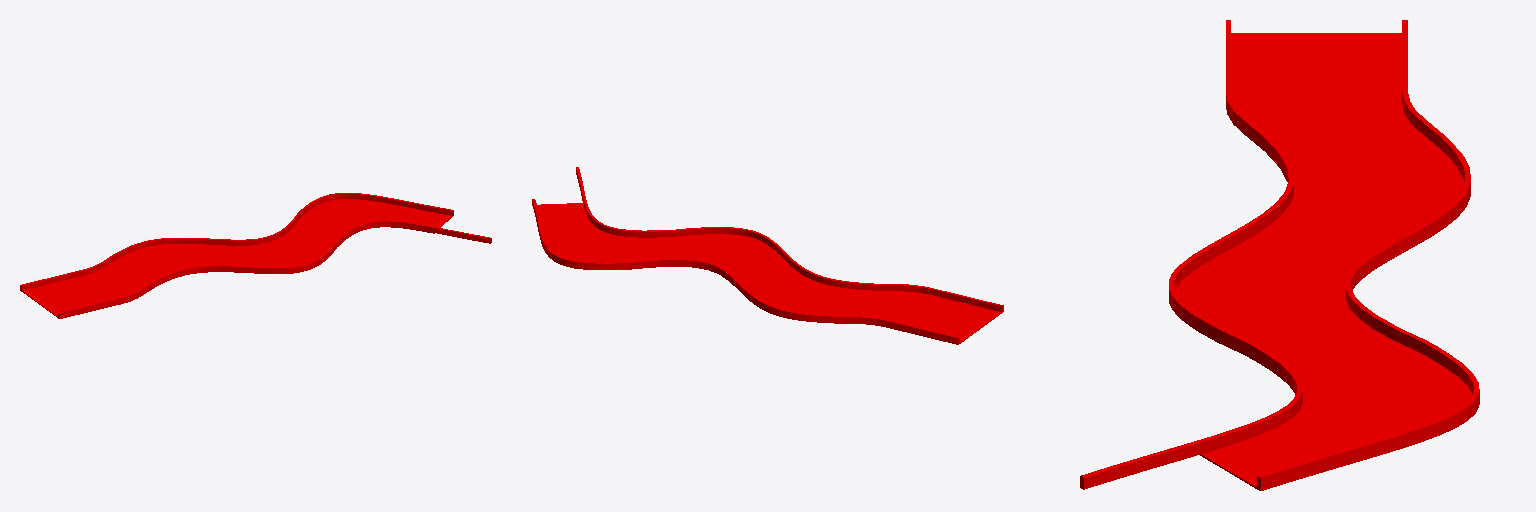
URDF robot description (chicane_robot):
<?xml version="1.0" ?>
<robot name="chicane_robot">
  
  <link name="world">
  </link>
  
  <link name="chicane">
    <contact>
      <lateral_friction value="1.0"/>
      <rolling_friction value="0.0"/>
      <contact_cfm value="0.0"/>
      <contact_erp value="1.0"/>
    </contact>
    <visual>
			<origin xyz="0 0 0" rpy="0 0 0" />
			<geometry>
				<mesh filename="Chicane_meters.obj" scale="1 1 1" />
			</geometry>
			<material name="texture">
				<color rgba="1 0 0 1" />
			</material>
		</visual>
		<collision>
			<geometry>
				<mesh filename="Chicane_meters.obj" scale="1.0 1.0 1.0" />
			</geometry>
		<origin xyz="0 0 0" rpy="0 0 0" /></collision>
		<inertial>
			<mass value="10.0" />
			<inertia ixx="1.0" ixy="0.0" ixz="0.0" iyy="1.0" iyz="0.0" izz="1.0" />
		</inertial>
	</link>
  
  <joint name="ramp_to_plane" type="fixed">
    <parent link="world"/>
    <child link="chicane"/>
    <origin xyz="0 0 0.01" rpy="1.57079 0 0"/>
  </joint>

</robot>

--- Render facts (derived) ---
3 views of the same robot in one strip: view 1: azimuth 30°, elevation 25°; view 2: azimuth 150°, elevation 25°; view 3: azimuth 270°, elevation 25° (orthographic).
Robot: chicane_robot — 2 links, 1 joints (1 fixed); root link world; default pose: all joints at 0.
Visible links, largest first — view 1: chicane; view 2: chicane; view 3: chicane.
Link boxes in pixels (x1=…): chicane: x1=20, y1=193, x2=491, y2=318; chicane: x1=532, y1=167, x2=1003, y2=344; chicane: x1=1080, y1=20, x2=1479, y2=490.
Size in the robot's own frame: 7.23 by 2.67 by 0.1016 metres.
1 mesh visuals loaded from 1 distinct referenced files (1 OBJ).